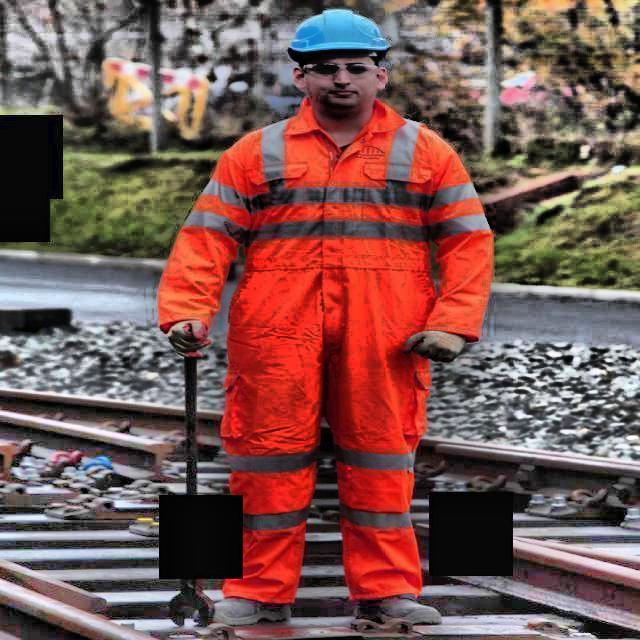safety_helmet: (288, 8, 392, 63)
safety_jacket: (208, 98, 454, 304)
